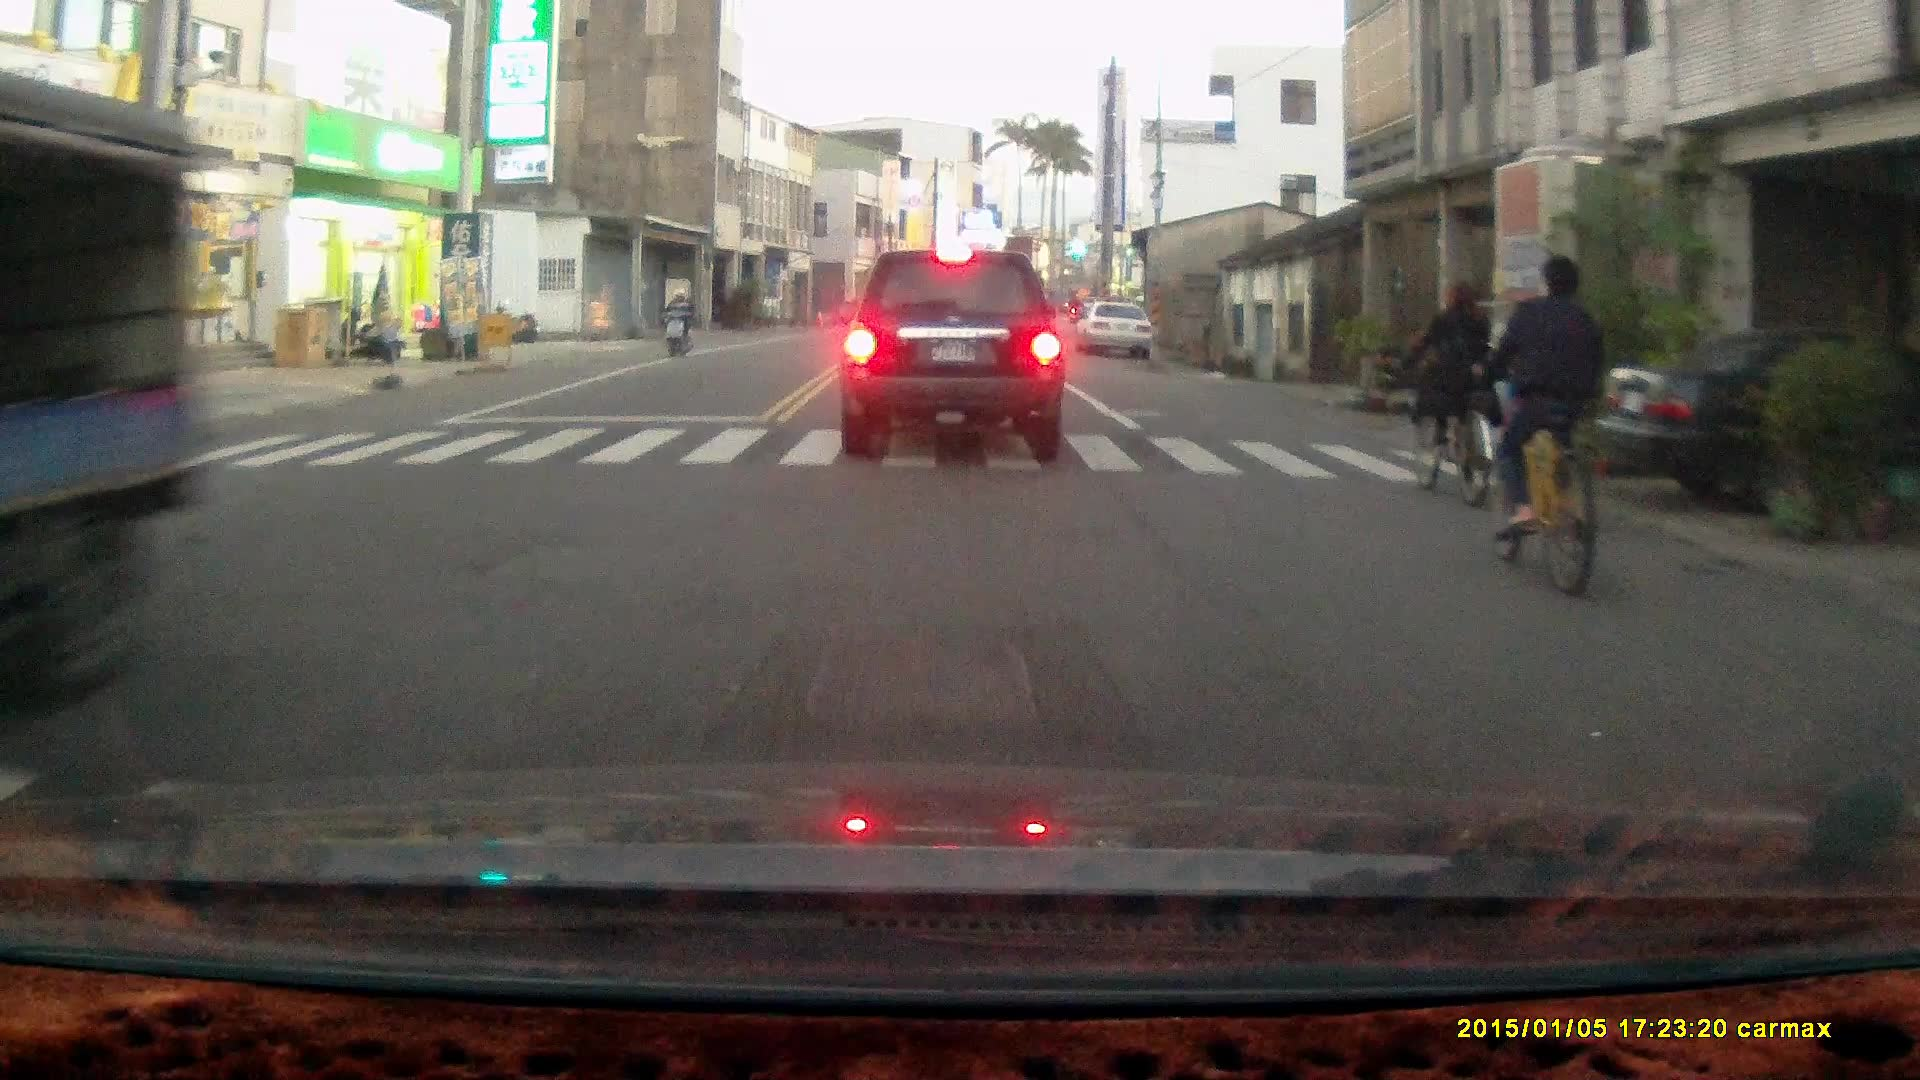rider: (1465, 252, 1602, 600), (1398, 278, 1495, 510), (660, 284, 694, 360)
vehicle: (1, 74, 211, 732), (1594, 326, 1920, 517), (834, 246, 1072, 460), (1081, 303, 1156, 363)
